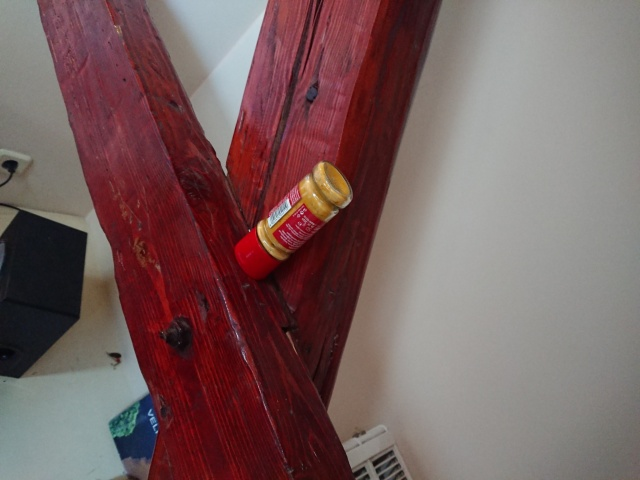Kotanyi Curry Spices Mix 70g: (231, 157, 355, 284)
